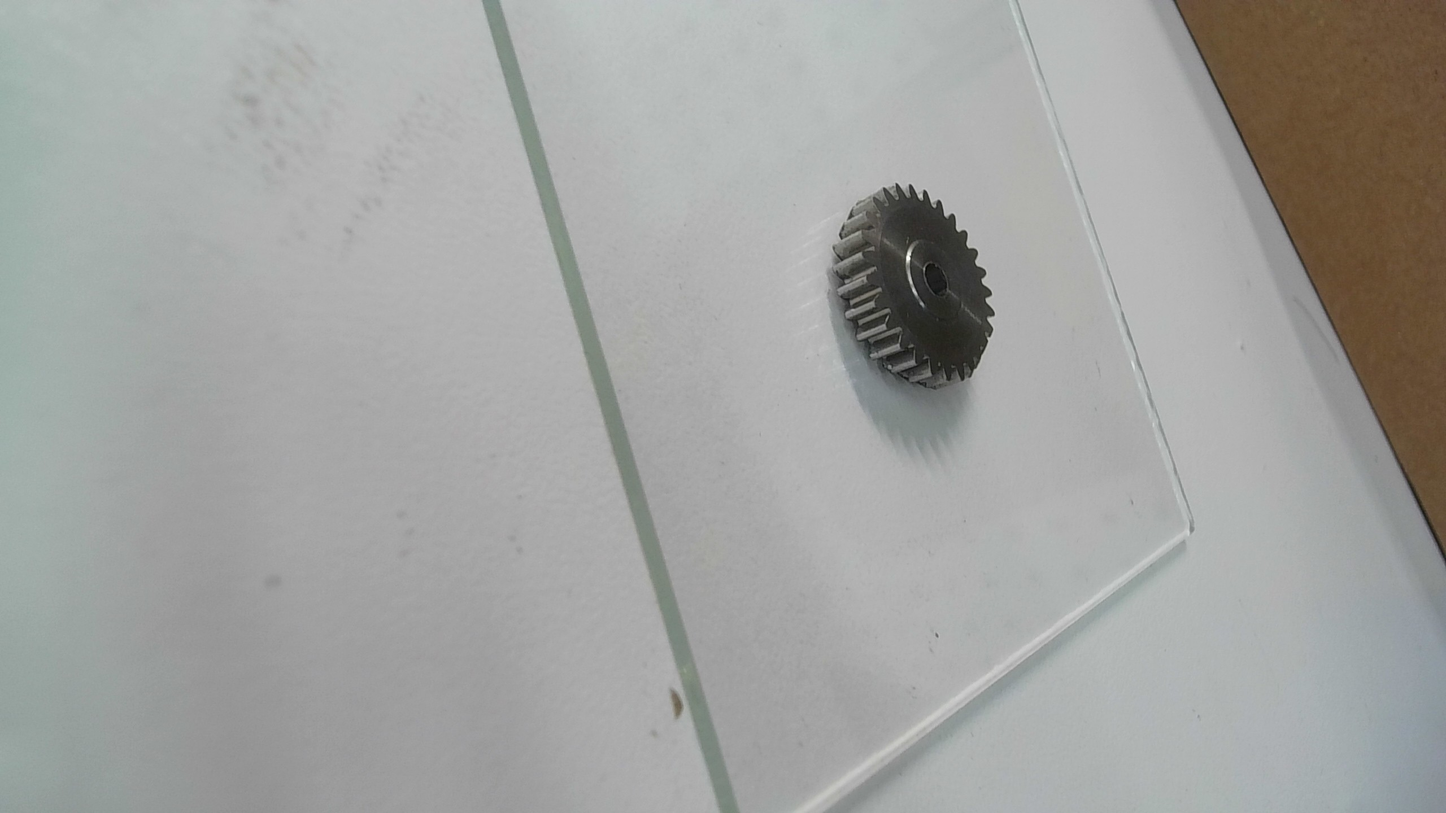gear: (833, 178, 999, 392)
